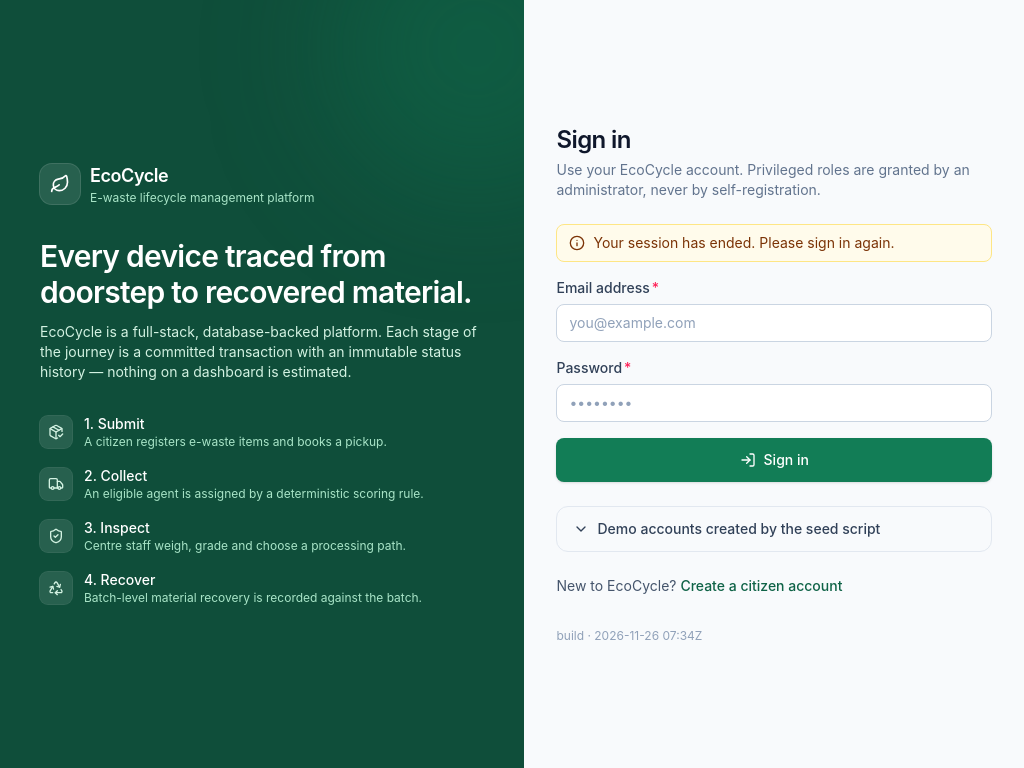
Scenario: a stale notice on the sign-in form › is cleared when a new attempt starts, even if that attempt fails
This screenshot has width=1024, height=768.
Check: the text "Your session has ended. Please sign in again." is shown, box [594,233,894,253]
Type "admin@ecocycle.test" into the field labelled "Email address*" at (774, 323), box [556,304,992,342]
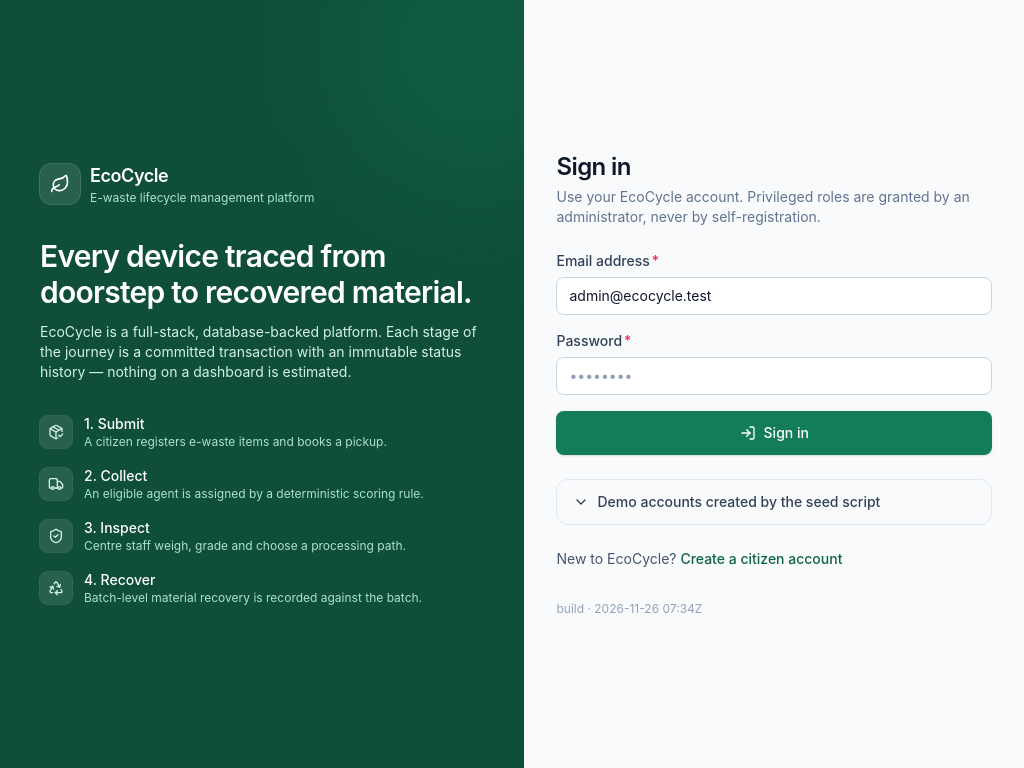
Type "wrong-password" into the password field labelled "Password*" at (774, 376), box [556,357,992,395]
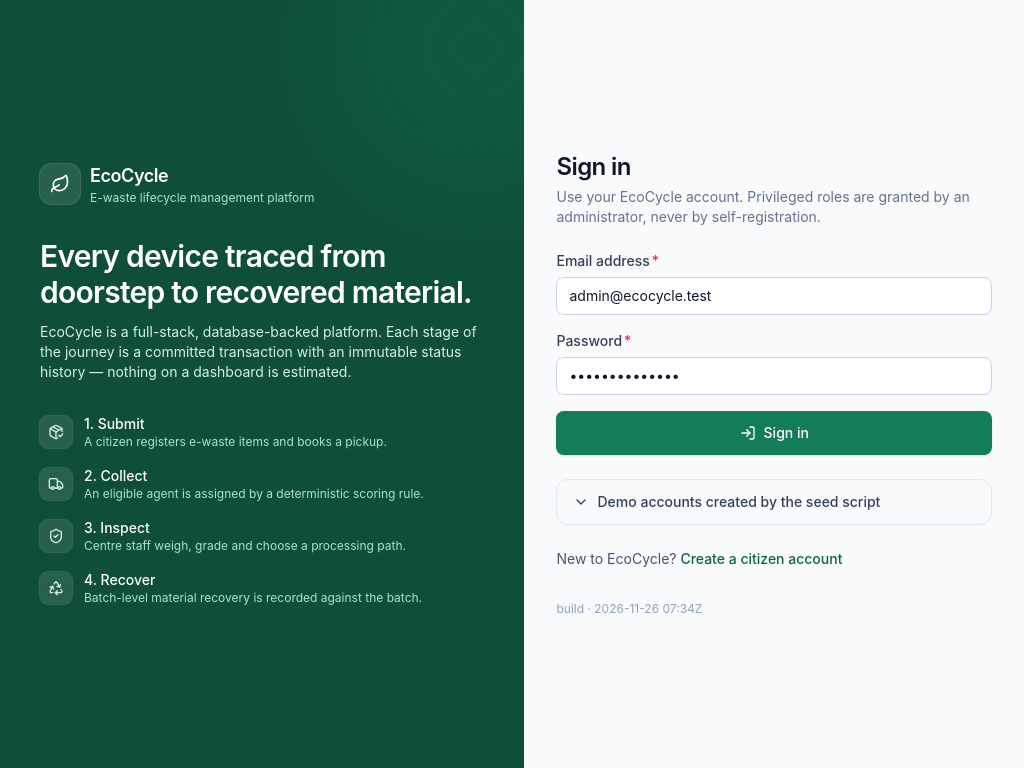
Click the button "Sign in" at (774, 433), box [556,411,992,455]
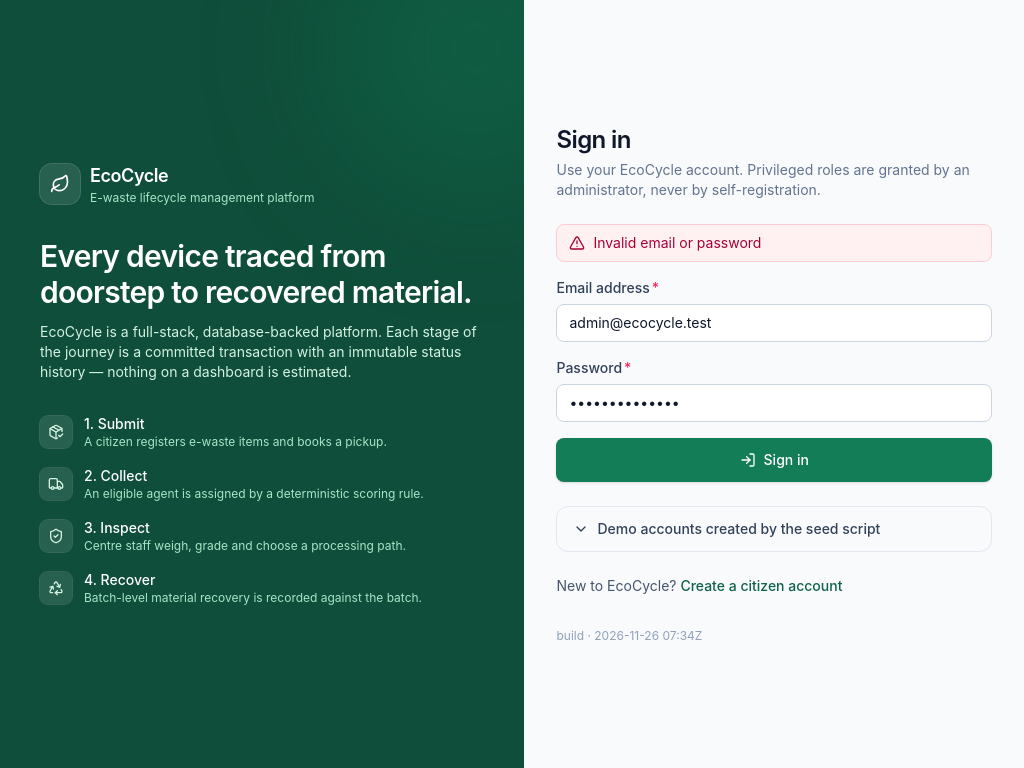
Check: the text "session has ended" is not shown
Check: the text "Invalid email or password" is shown, box [594,233,762,253]
